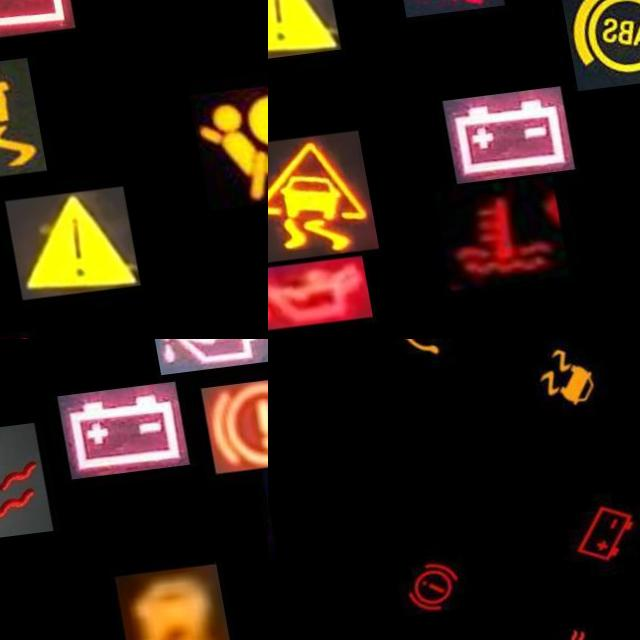Central Warning lamp: (0, 192, 122, 303), (268, 0, 328, 66)
Engine cooling system: (415, 187, 547, 298), (0, 426, 37, 546)
